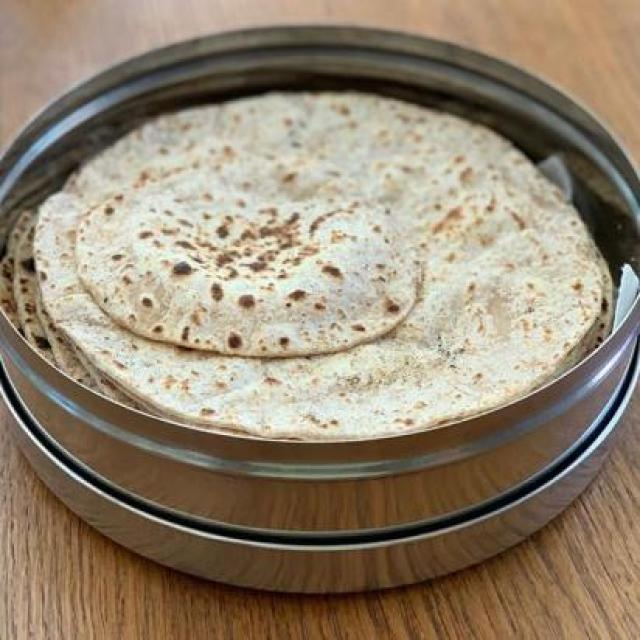alooparatha-chapati: (45, 120, 608, 438), (80, 197, 422, 348)
